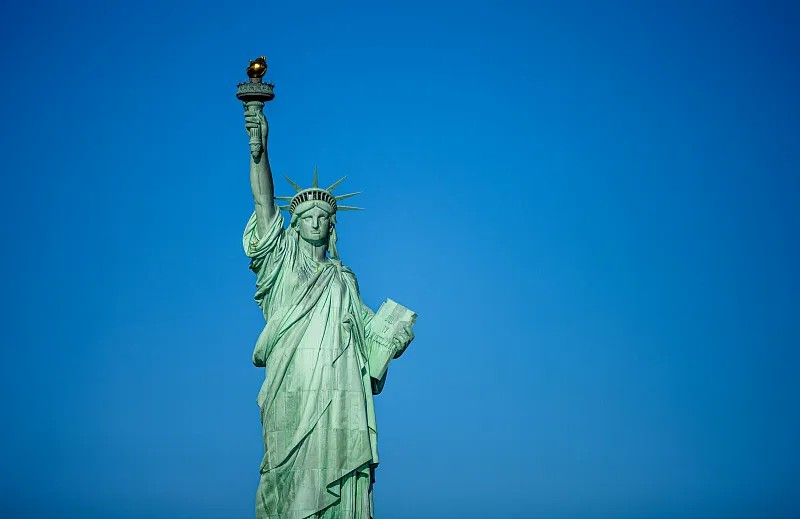SL: (236, 55, 419, 519)
